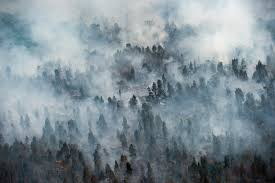smoke: (1, 1, 270, 154)
